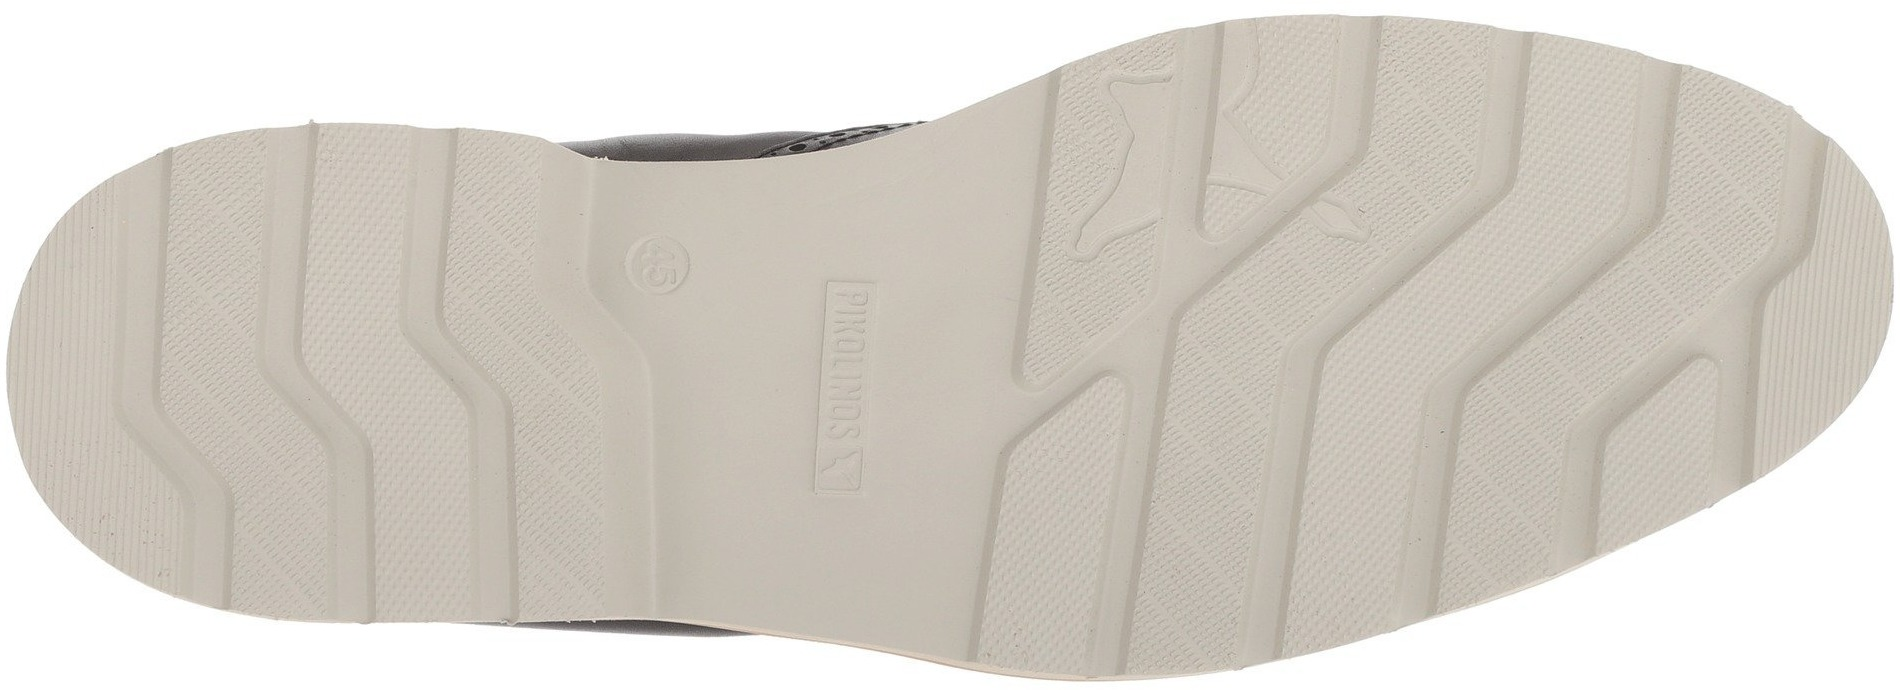chevron: (1357, 90, 1735, 471), (73, 255, 423, 520), (1058, 264, 1323, 537)
circle: (619, 230, 699, 302)
text: (788, 403, 889, 504), (799, 286, 902, 373), (630, 236, 688, 296)
